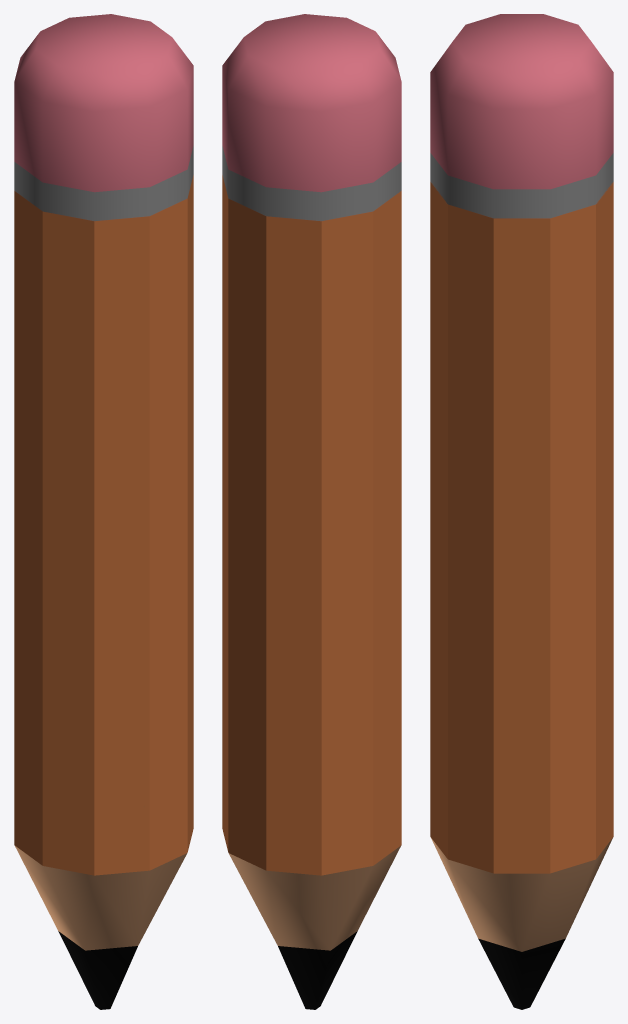
Rendered from Pencil.fbx.
3 views of the same model, side by side, from view 1: azimuth 30°, elevation 25°; view 2: azimuth 150°, elevation 25°; view 3: azimuth 270°, elevation 25° (orthographic).
Visible parts, largest first — view 1: Pencil; view 2: Pencil; view 3: Pencil.
Boxes of the visible parts, <box> form: Pencil: <box>14,14,193,1009</box>; Pencil: <box>222,14,401,1009</box>; Pencil: <box>430,14,613,1009</box>.
Size of the model in its own units: 5.78 by 35.32 by 6.08.
1 material, 1 textured.
